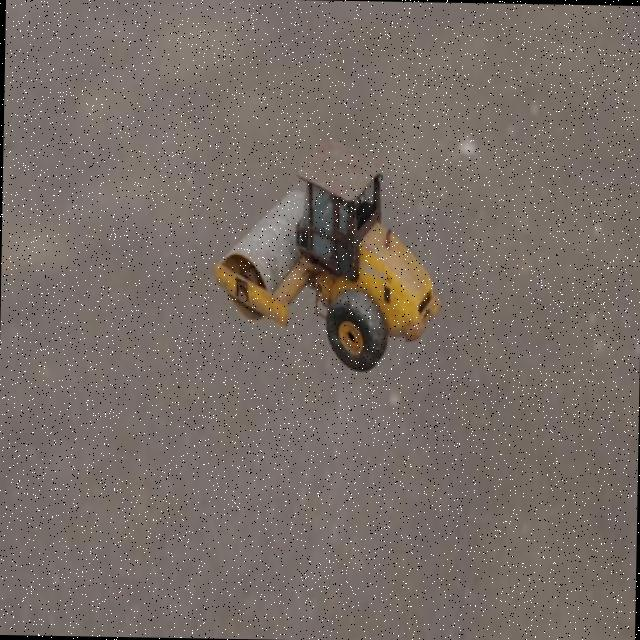Roller: (212, 136, 442, 373)
